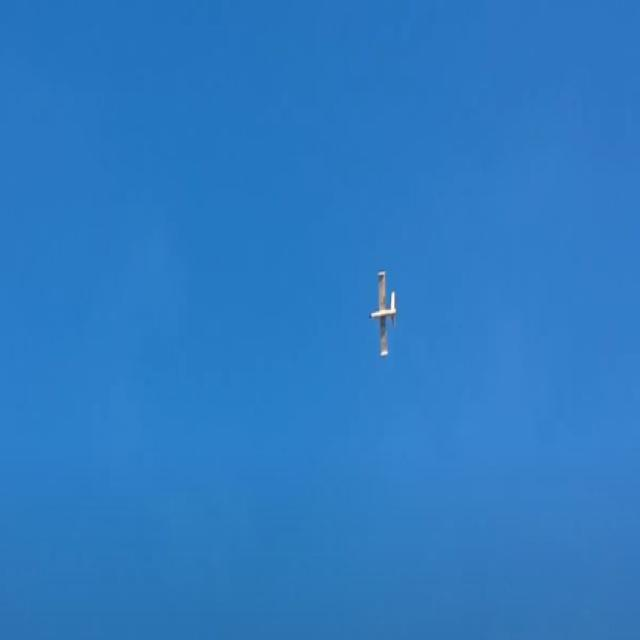iha: (369, 298, 398, 328)
